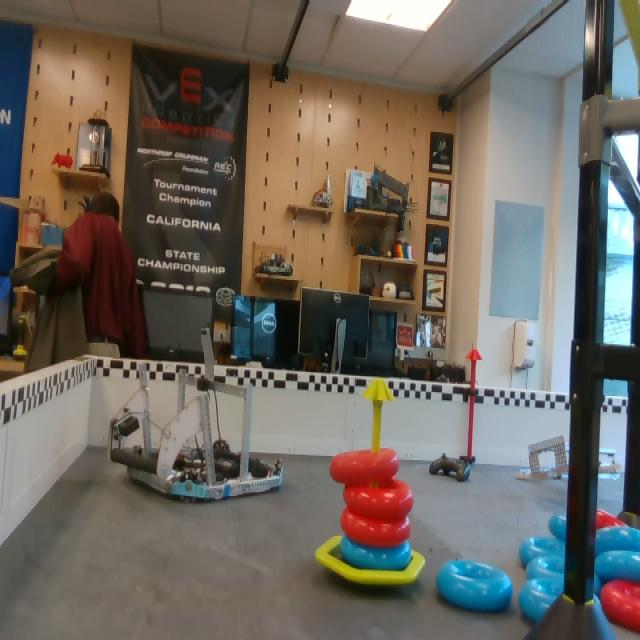Blue-Ring: (440, 560, 514, 612), (520, 536, 599, 583), (517, 577, 602, 620), (527, 556, 601, 594), (340, 534, 410, 568), (595, 525, 639, 558), (597, 550, 639, 583), (550, 516, 565, 542)
Mobile-Goal: (315, 380, 425, 584)
Red-Ring: (343, 478, 414, 521), (341, 504, 412, 547), (331, 450, 400, 483), (601, 580, 639, 633), (597, 509, 628, 531)
Yellow-Stake-Head: (363, 378, 393, 402)
zred-Stake-Head: (466, 349, 483, 361)
